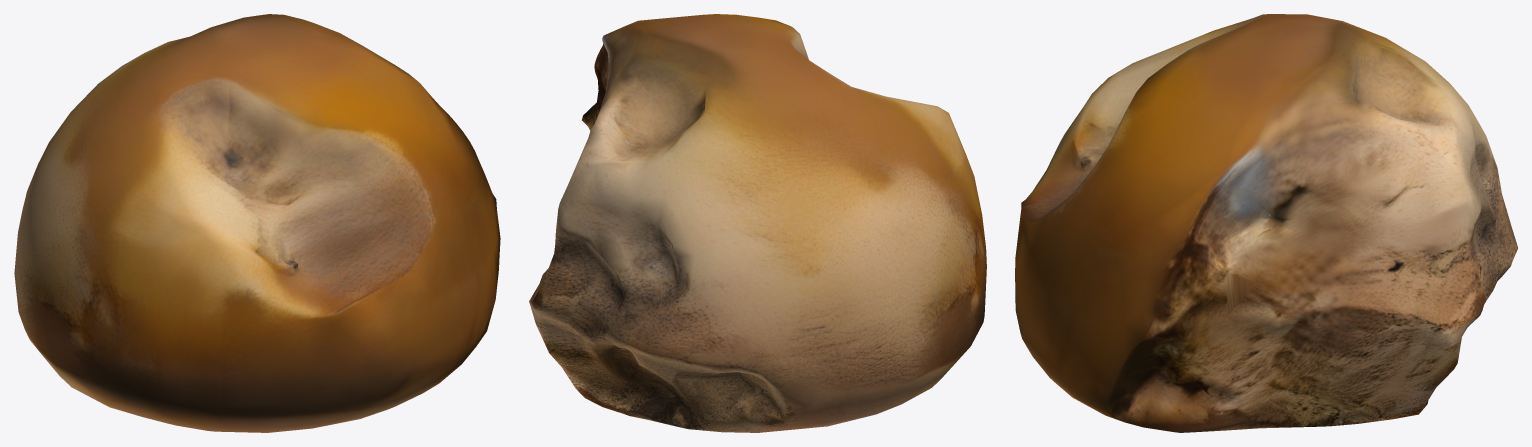
The model's file is Chopper.fbx.
3 renders of one model, left to right at view 1: azimuth 30°, elevation 25°; view 2: azimuth 150°, elevation 25°; view 3: azimuth 270°, elevation 25°, orthographic. The views are drawn at different scales.
Visible parts, largest first — view 1: Chopper_Baked; view 2: Chopper_Baked; view 3: Chopper_Baked.
Part boxes in pixels (box(x1,y1,x2,y2)): Chopper_Baked: box(14, 14, 500, 432); Chopper_Baked: box(529, 14, 986, 432); Chopper_Baked: box(1015, 14, 1517, 432).
Bounding box in the file's own units: 10.93 × 8.67 × 10.99.
Materials: 1 (1 with a texture image).
